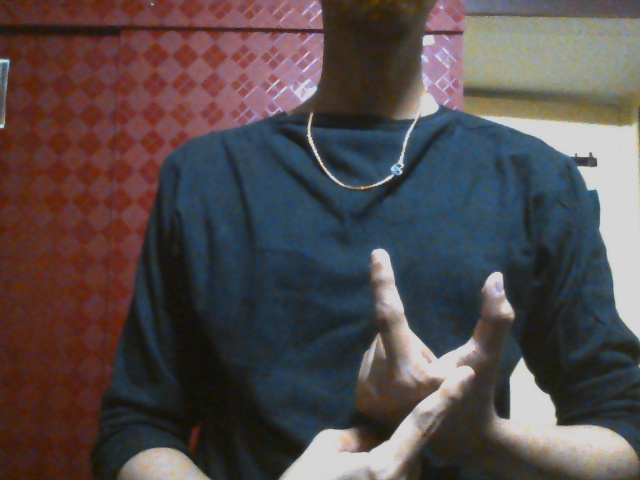Y: (298, 246, 516, 480)
